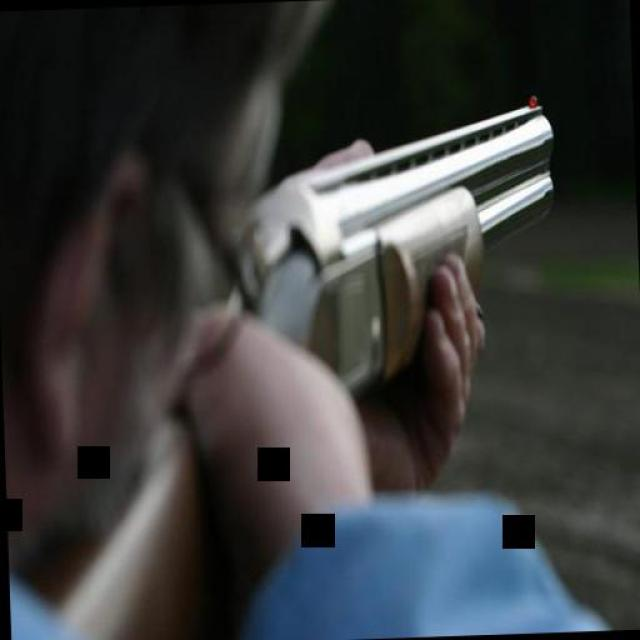gun: (268, 89, 566, 426)
